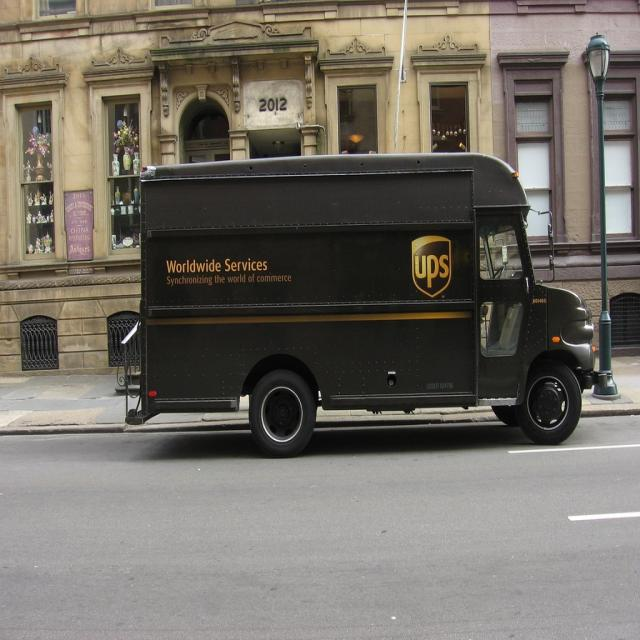ups: (413, 235, 452, 300)
